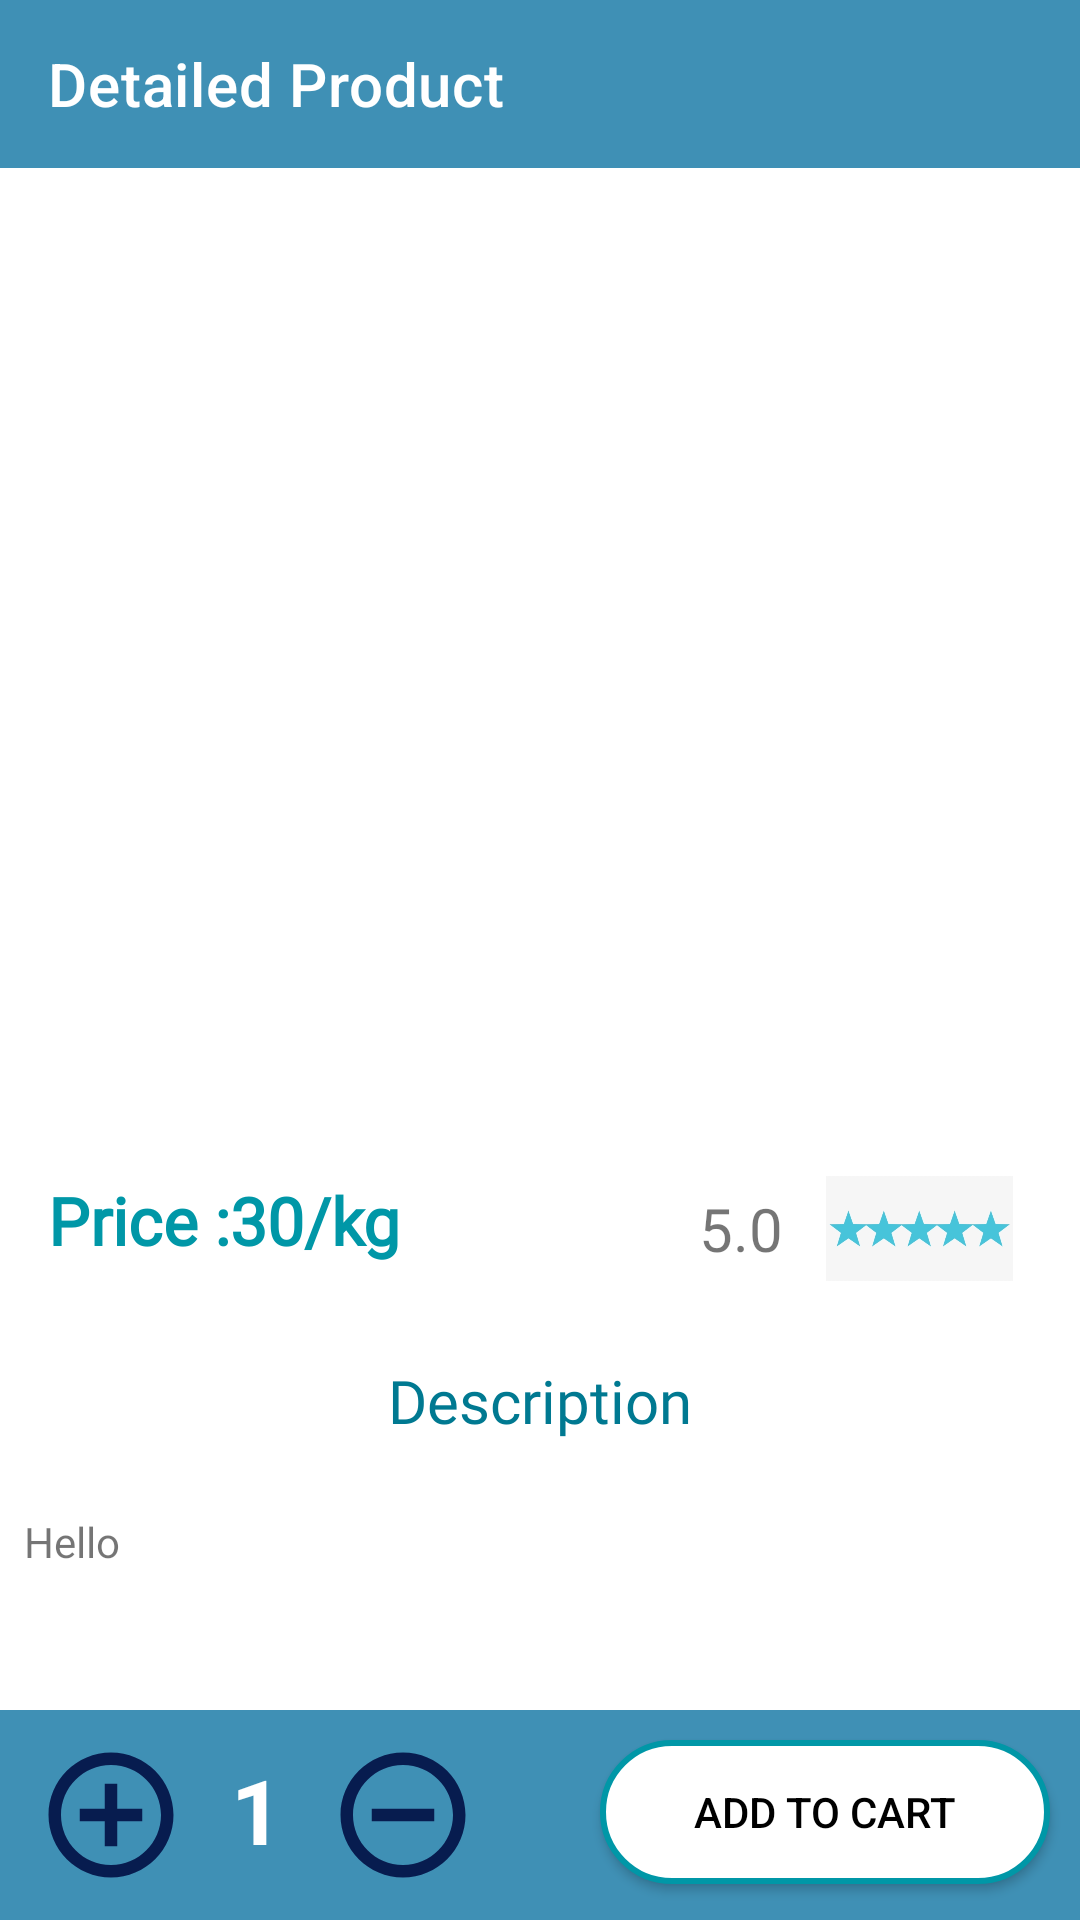

Screen size 1080×1920. Icon name, then its box in pixels as (x1, y1, x2, y2):
add circle: (48, 1752, 174, 1878)
rate: (826, 1176, 1013, 1281)
remove circle: (340, 1752, 466, 1878)
